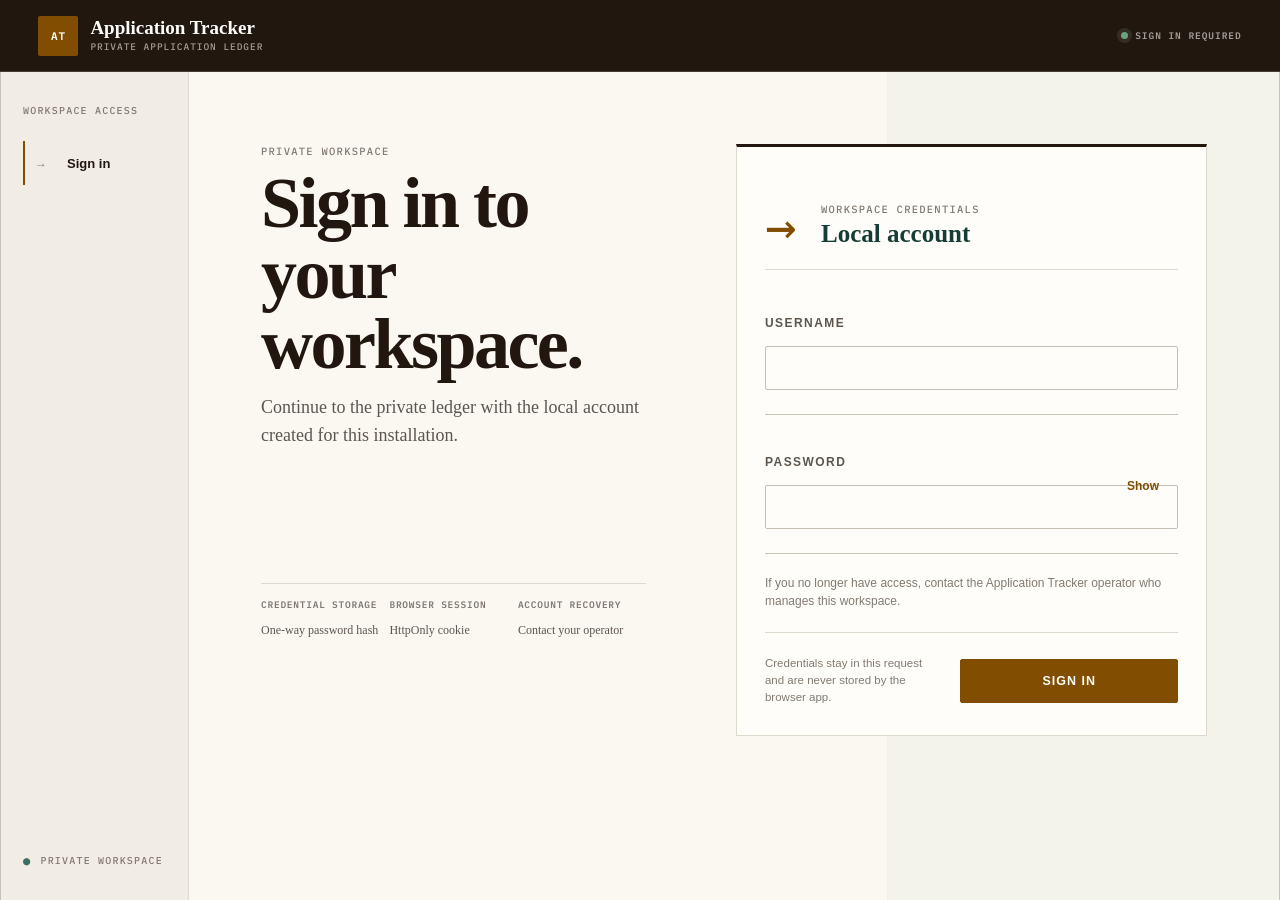
Test: application shell › signs in with local credentials
Expected: the heading "Sign in to your workspace." is shown, [261,163,582,384]
Type "alex" into the field labelled "Username". click: {"x": 972, "y": 368}
box: [765,346,1178,390]
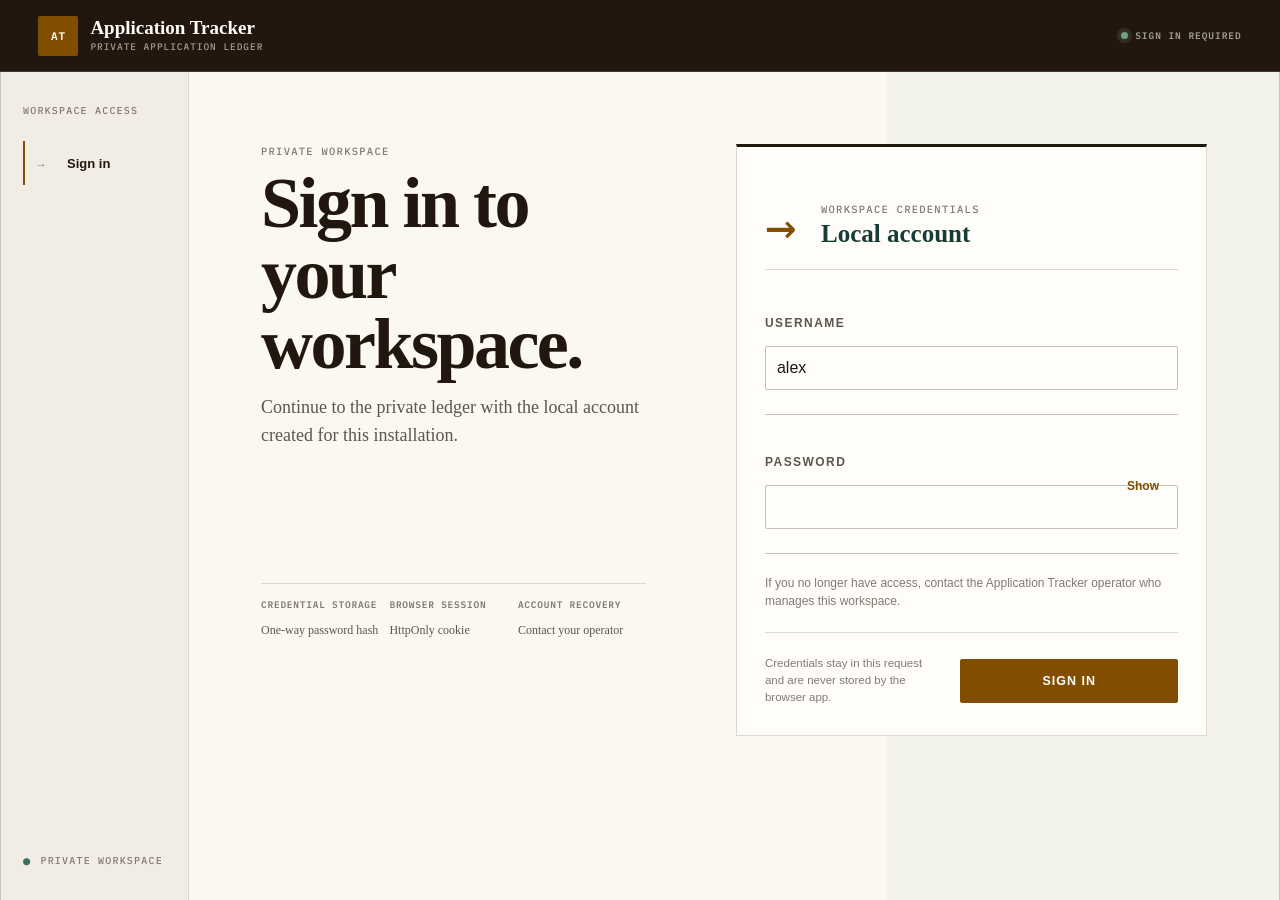
Type "correct horse battery staple" into the password field labelled "Password". click: {"x": 972, "y": 507}
box: [765,485,1178,529]
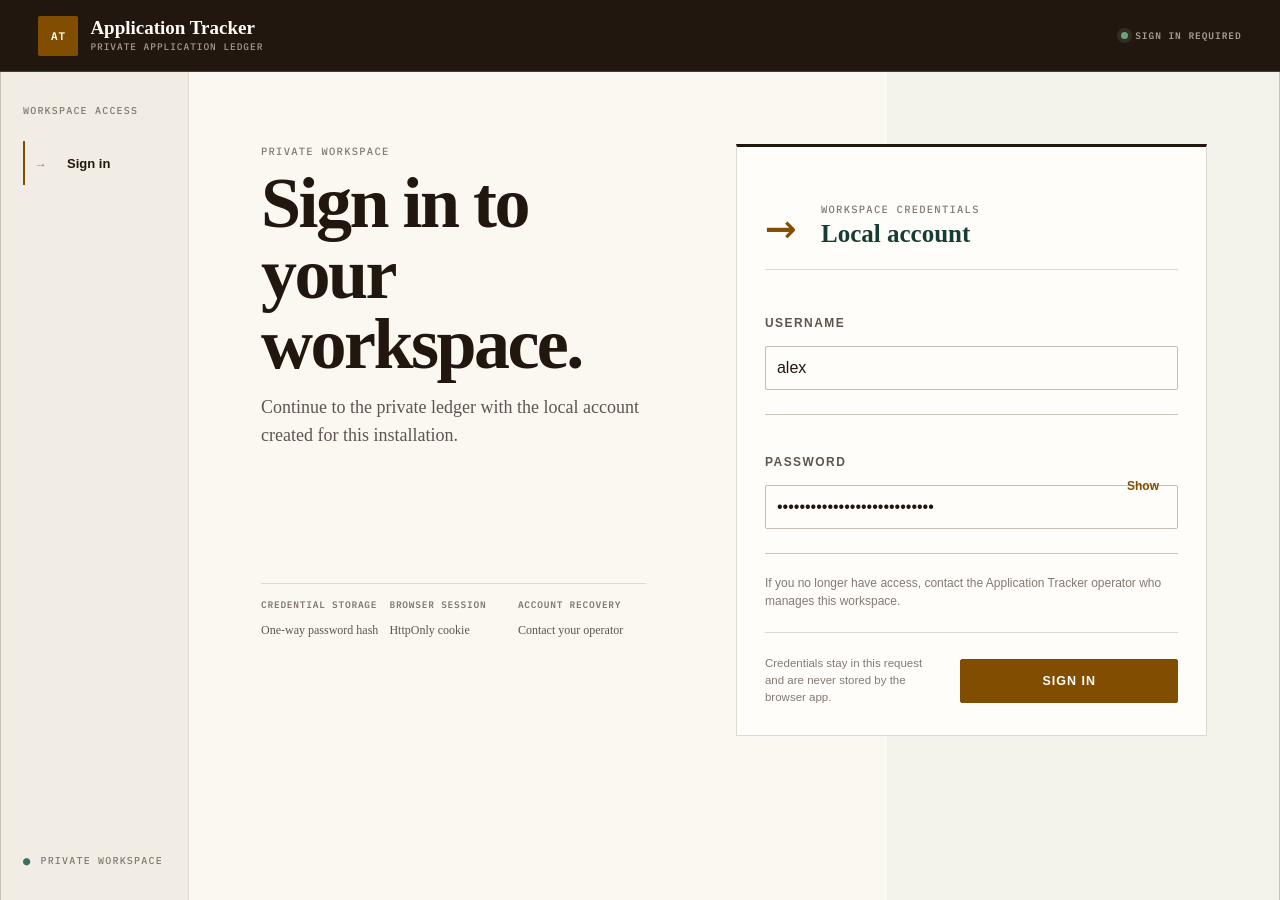
Click the button "Sign in". click: {"x": 1069, "y": 681}
box: [960,659,1178,703]
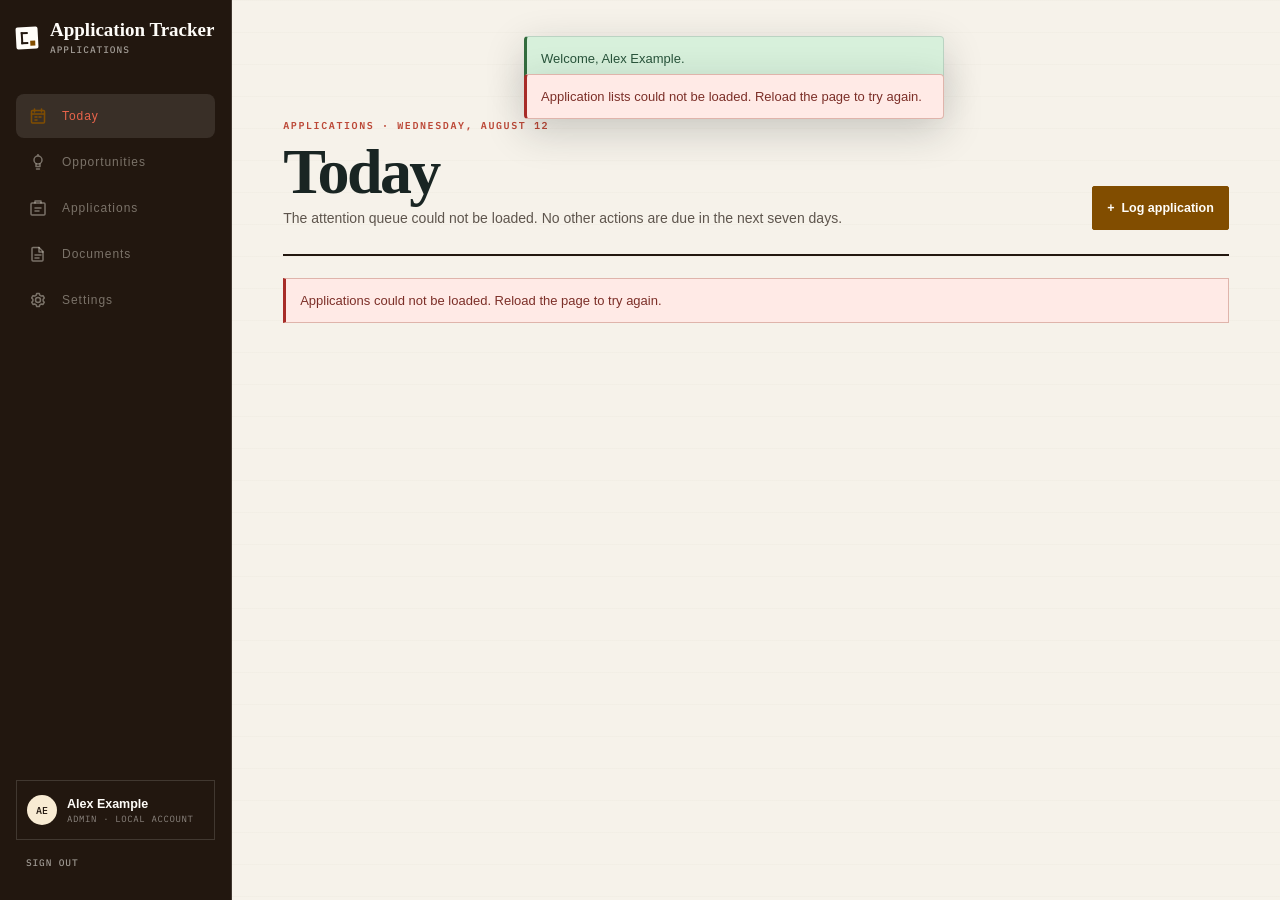
Expected: the heading "Today" is shown, [283,136,439,206]
